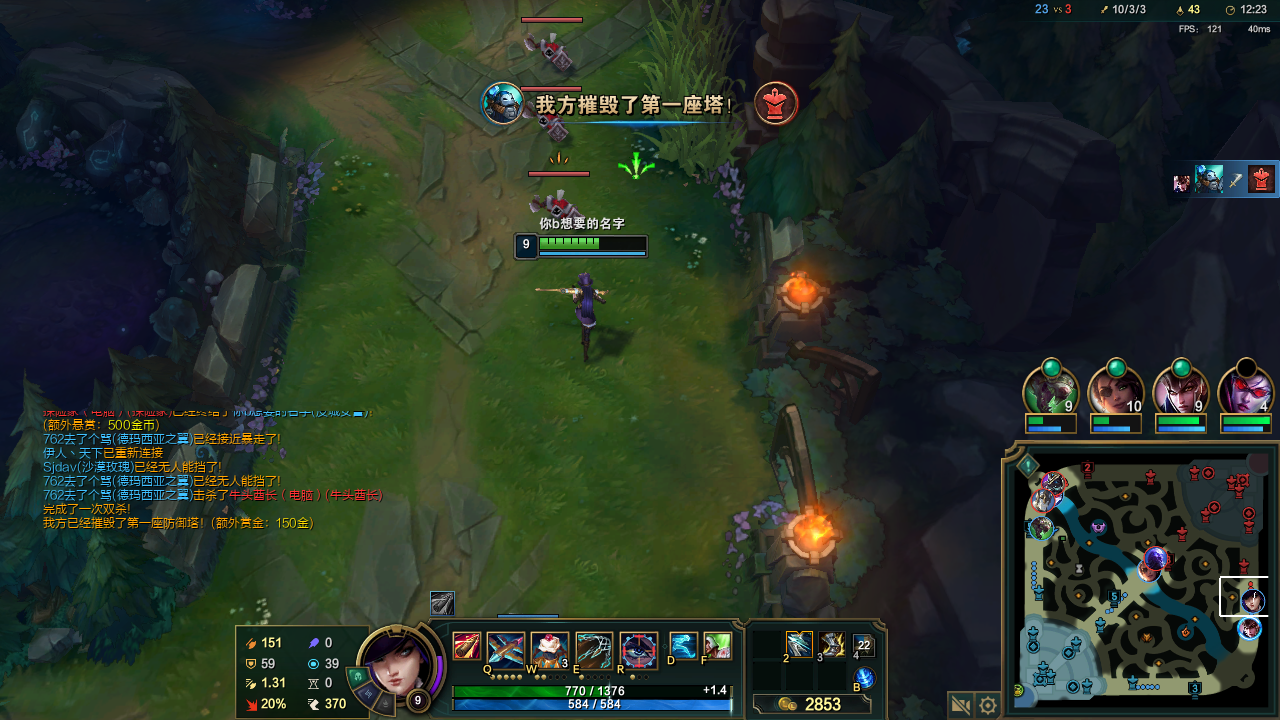DFXB: (531, 34, 574, 73), (536, 189, 579, 223), (536, 107, 566, 143)
